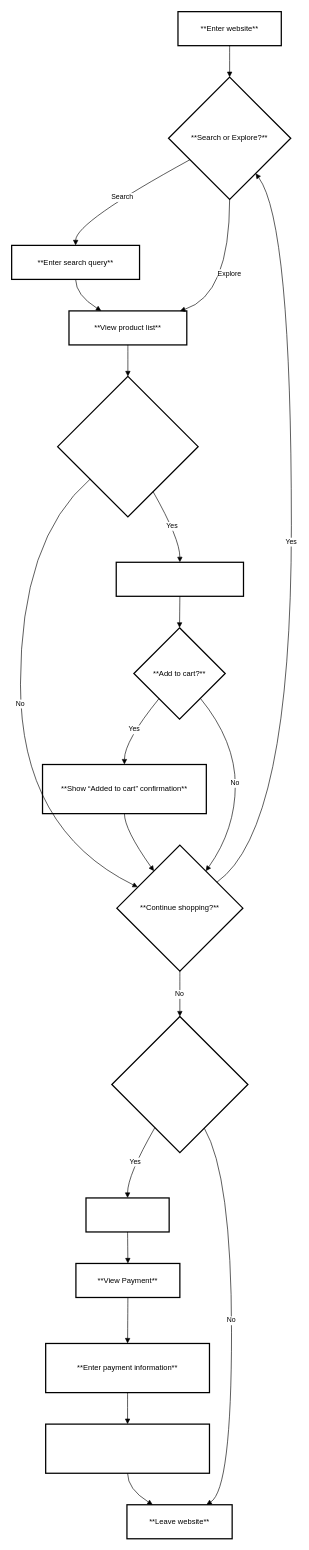
Image size: 309x1550. Some labels were removed from this diagram. Here are the shapes that lost their labels. From the top down, the box of each, then its label:
(57, 375, 198, 517): **View specific product?**
(115, 561, 244, 597): **Open product page**
(111, 1016, 248, 1153): **Proceed to checkout?**
(85, 1197, 169, 1232): **View Cart**
(45, 1423, 210, 1474): **Order confirmation & send email**
